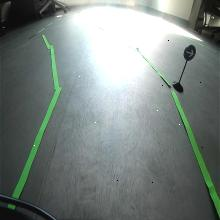right: (184, 45, 196, 61)
